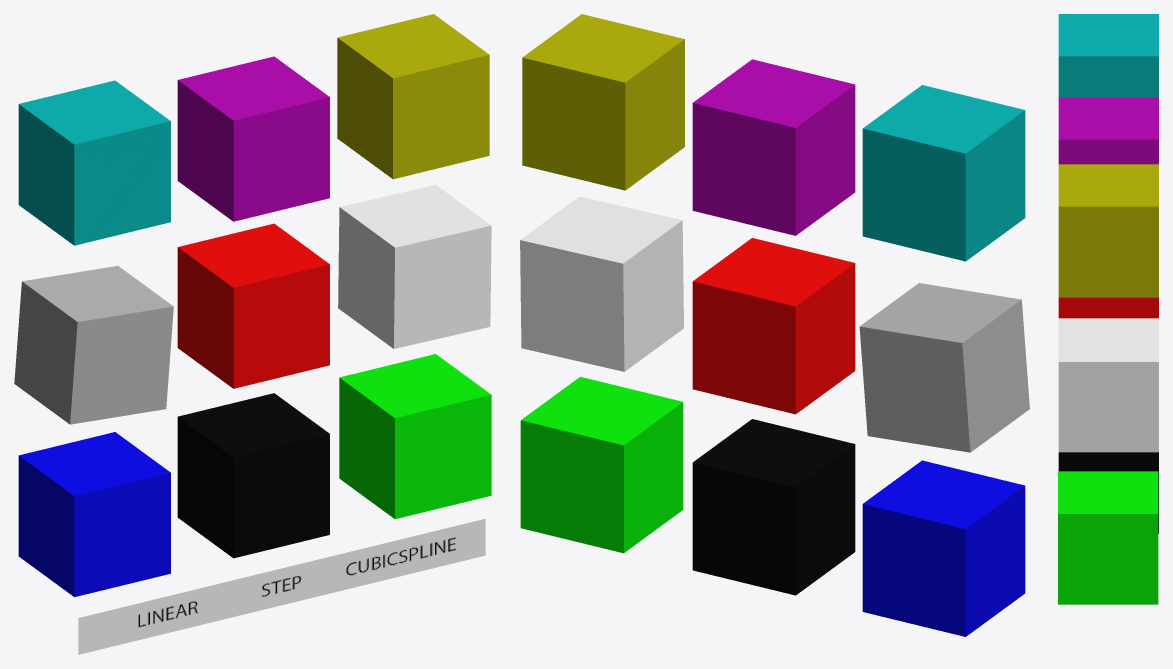
File: InterpolationTest.gltf
The picture shows the model from 3 angles, left to right: view 1: azimuth 30°, elevation 25°; view 2: azimuth 150°, elevation 25°; view 3: azimuth 270°, elevation 25°; orthographic projection. The views are drawn at different scales.
Visible parts, largest first — view 1: Cube.002, Cube.009, Cube, Cube.001, Cube.008, Cube.003, Cube.006, Cube.004, Cube.005, Plane; view 2: Cube.006, Cube.003, Cube.002, Cube, Cube.001, Cube.009, Cube.004, Cube.008, Cube.005; view 3: Cube.004, Cube.002, Cube.008, Cube.009, Cube.006, Cube.003, Cube.
Part boxes in pixels (left/top/right/bottom): Cube.002: left=339, top=354, right=491, bottom=519; Cube.009: left=18, top=80, right=170, bottom=245; Cube: left=177, top=393, right=329, bottom=558; Cube.001: left=18, top=432, right=170, bottom=597; Cube.008: left=337, top=14, right=489, bottom=179; Cube.003: left=177, top=223, right=329, bottom=388; Cube.006: left=177, top=56, right=329, bottom=221; Cube.004: left=338, top=185, right=491, bottom=348; Cube.005: left=14, top=266, right=173, bottom=424; Plane: left=78, top=518, right=485, bottom=654; Cube.006: left=692, top=59, right=855, bottom=235; Cube.003: left=692, top=238, right=855, bottom=414; Cube.002: left=520, top=376, right=683, bottom=553; Cube: left=692, top=419, right=855, bottom=595; Cube.001: left=862, top=460, right=1025, bottom=636; Cube.009: left=862, top=85, right=1025, bottom=261; Cube.004: left=520, top=196, right=683, bottom=371; Cube.008: left=522, top=14, right=684, bottom=190; Cube.005: left=859, top=283, right=1029, bottom=452; Cube.004: left=1058, top=318, right=1158, bottom=452; Cube.002: left=1058, top=471, right=1158, bottom=604; Cube.008: left=1058, top=164, right=1158, bottom=297; Cube.009: left=1058, top=14, right=1158, bottom=97; Cube.006: left=1058, top=97, right=1158, bottom=164; Cube.003: left=1058, top=297, right=1158, bottom=318; Cube: left=1058, top=452, right=1158, bottom=533.
Size of the model in its own units: 8.74 by 10.12 by 2.01.
Materials: 10 (1 with a texture image).
